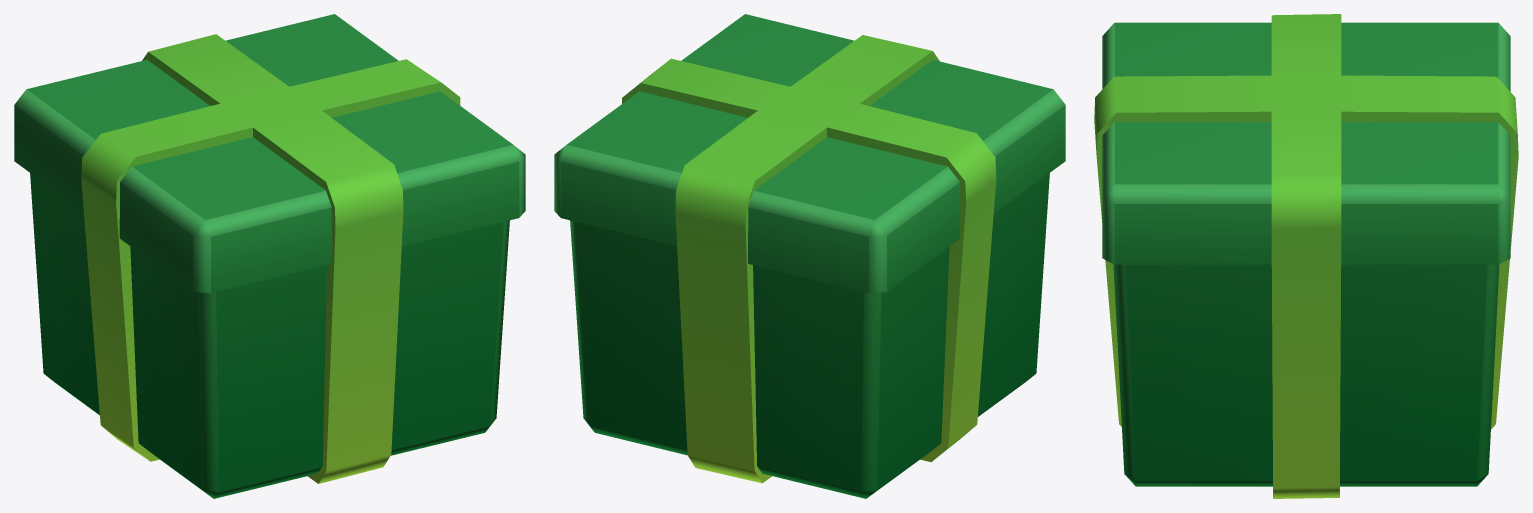
File: giftbox_024.fbx
3 renders of one model, left to right at view 1: azimuth 30°, elevation 25°; view 2: azimuth 150°, elevation 25°; view 3: azimuth 270°, elevation 25°, orthographic. The views are drawn at different scales.
Visible parts, largest first — view 1: giftbox_024; view 2: giftbox_024; view 3: giftbox_024.
Part boxes in pixels (x1,y1,x2,y2): giftbox_024: (14,14,525,498); giftbox_024: (554,14,1065,498); giftbox_024: (1094,14,1518,498).
Bounding box in the file's own units: 181 × 179 × 155.
